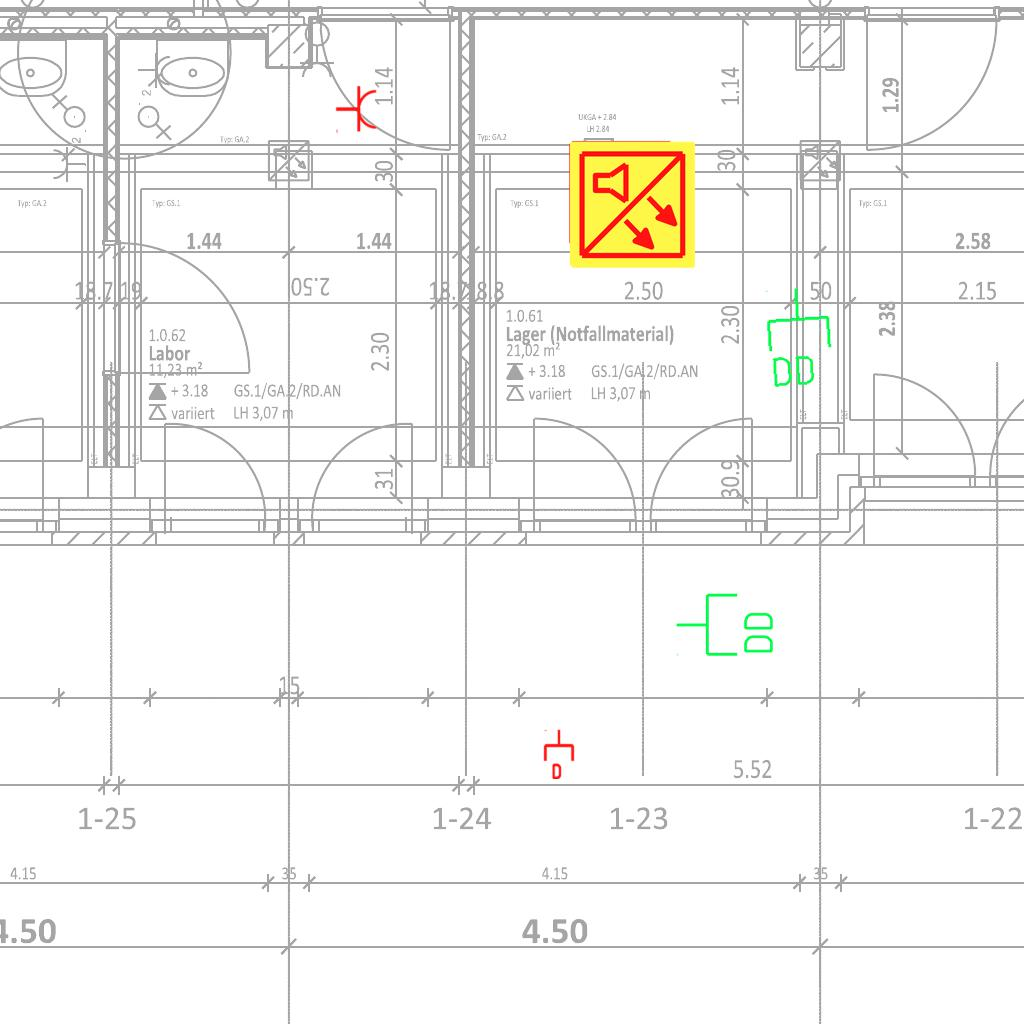Datenanschluss_einfach: (542, 729, 576, 779)
Datenanschluss_zweifach: (760, 283, 837, 392), (674, 591, 777, 660)
OKW_Multisensormelder_(Kombination_optischer_Rauch-Kahlenmonoxid_Waerme-Melder): (566, 139, 698, 271)
Schukosteckdose_einfach: (335, 85, 378, 135)
